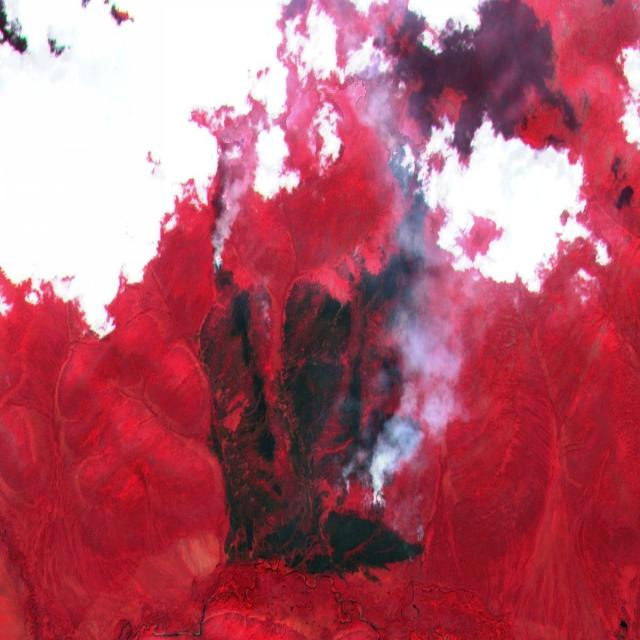fire: (341, 449, 392, 518), (204, 214, 230, 287), (411, 514, 425, 564)
